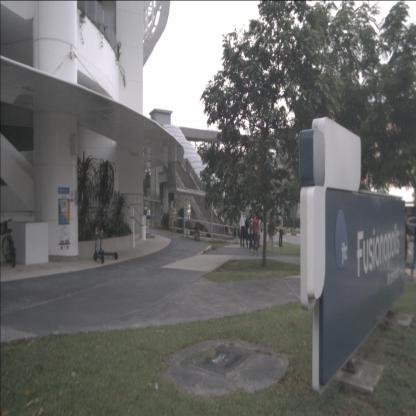human-pedestrian-adult: (401, 213, 409, 275), (266, 215, 276, 252), (252, 212, 260, 253), (239, 210, 246, 248), (255, 212, 262, 248), (411, 213, 415, 276), (248, 210, 254, 251), (245, 214, 252, 249), (251, 210, 257, 248), (278, 211, 283, 248), (194, 223, 201, 242), (223, 218, 228, 235)
vehicle-bicycle: (0, 217, 17, 267)
vehicle-car: (405, 216, 415, 237)
